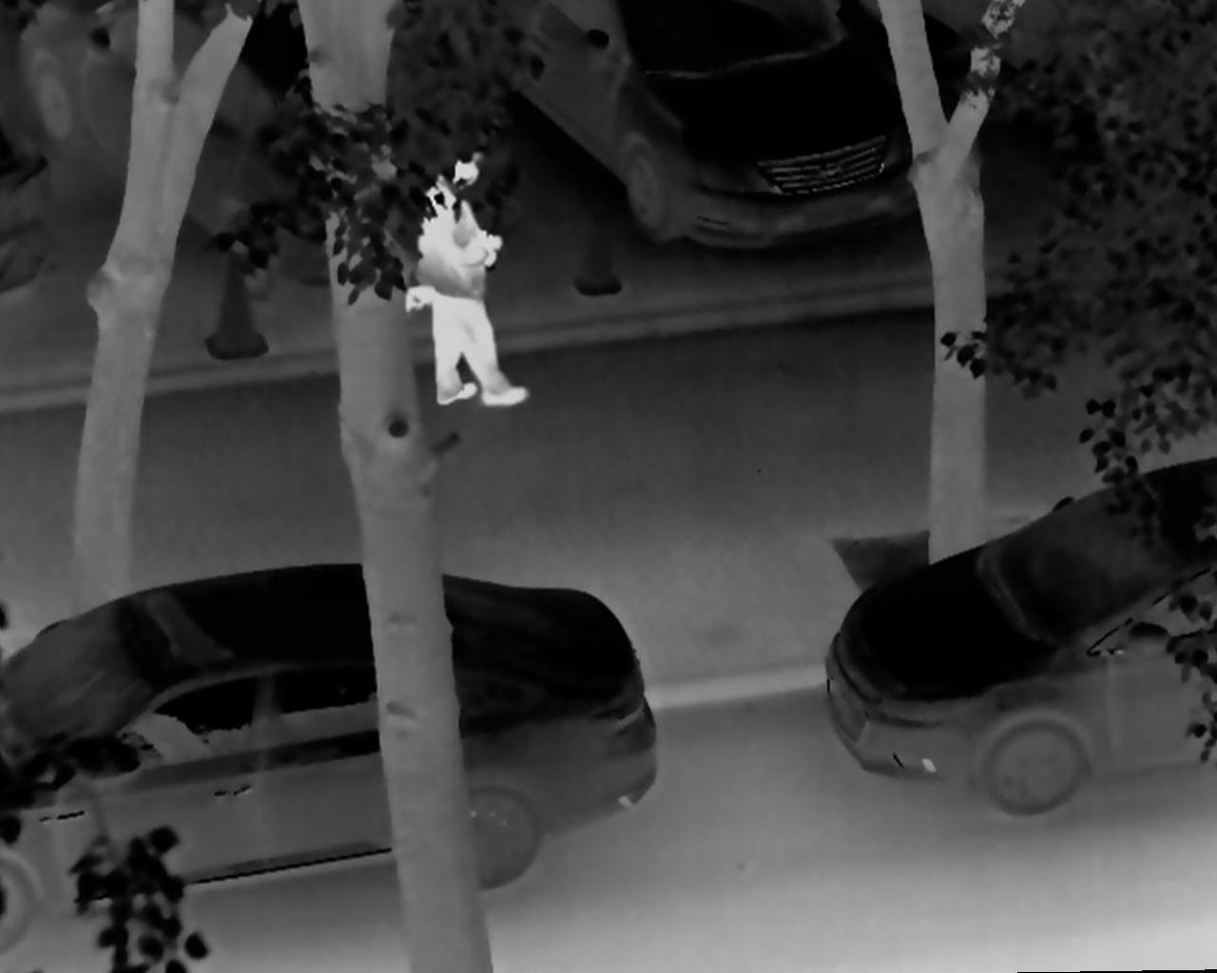person: (411, 143, 530, 414)
